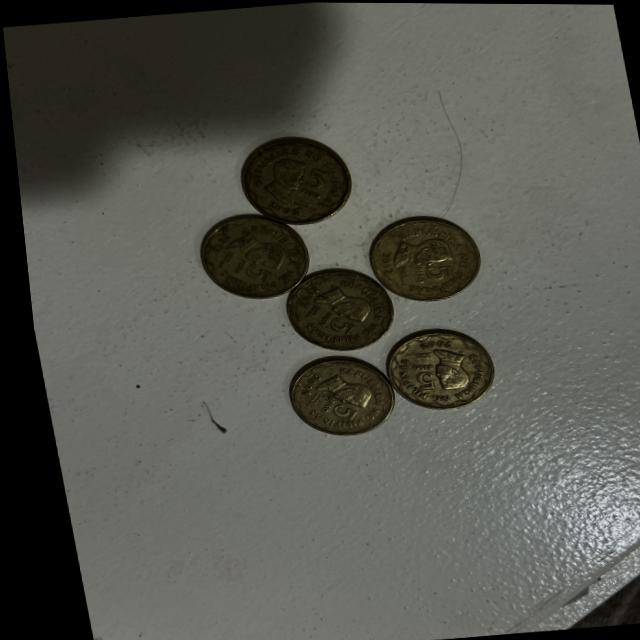5_Old_Front: (302, 308, 360, 343), (301, 389, 355, 426), (220, 253, 270, 288), (402, 258, 455, 291), (400, 356, 435, 398), (295, 164, 329, 203)
